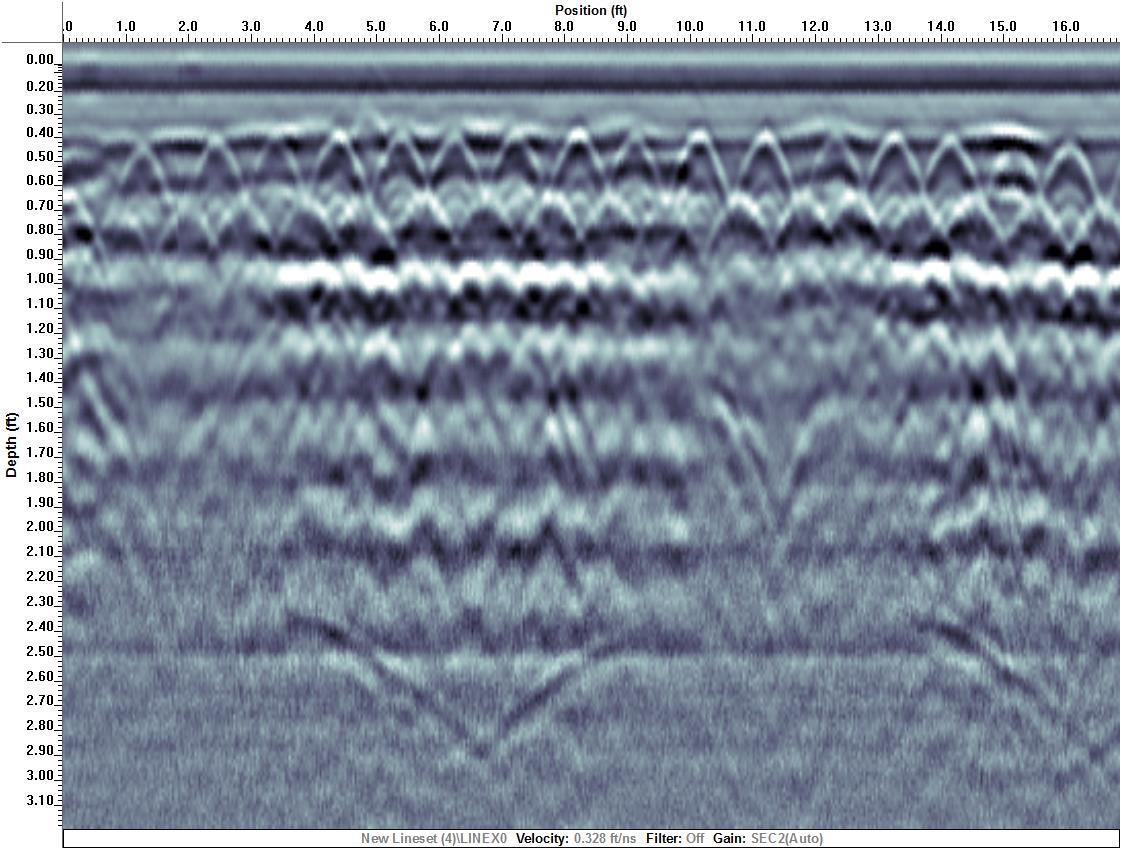hyperbola: (295, 123, 384, 218), (168, 130, 261, 217), (538, 121, 622, 210), (906, 129, 989, 216), (727, 124, 802, 218)
